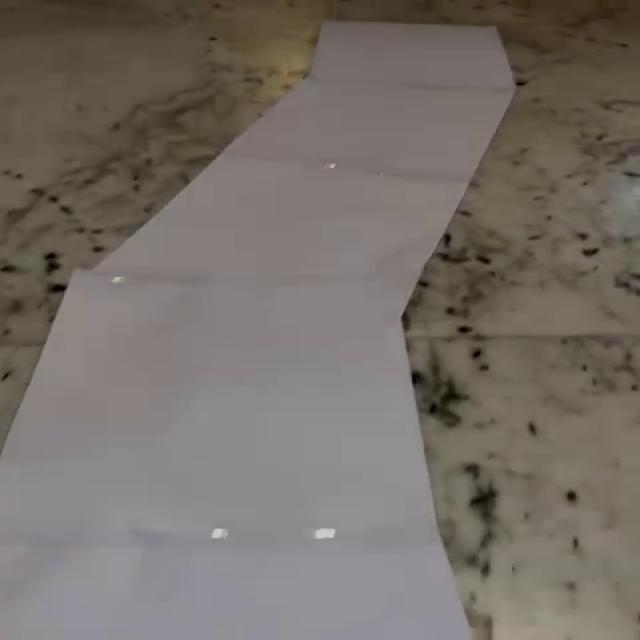road: (3, 21, 513, 640)
